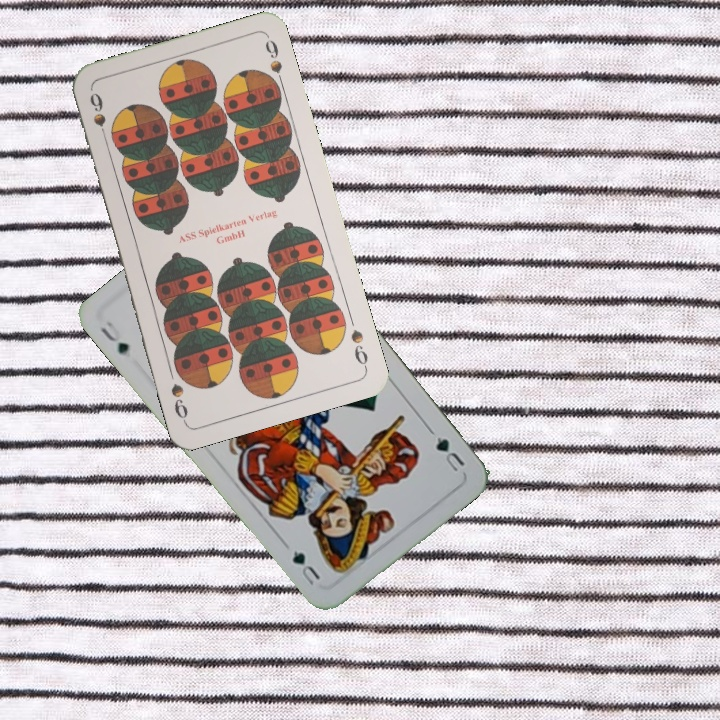GU: (431, 432, 468, 476), (96, 317, 132, 359)
S9: (85, 88, 111, 146), (346, 325, 371, 372)
